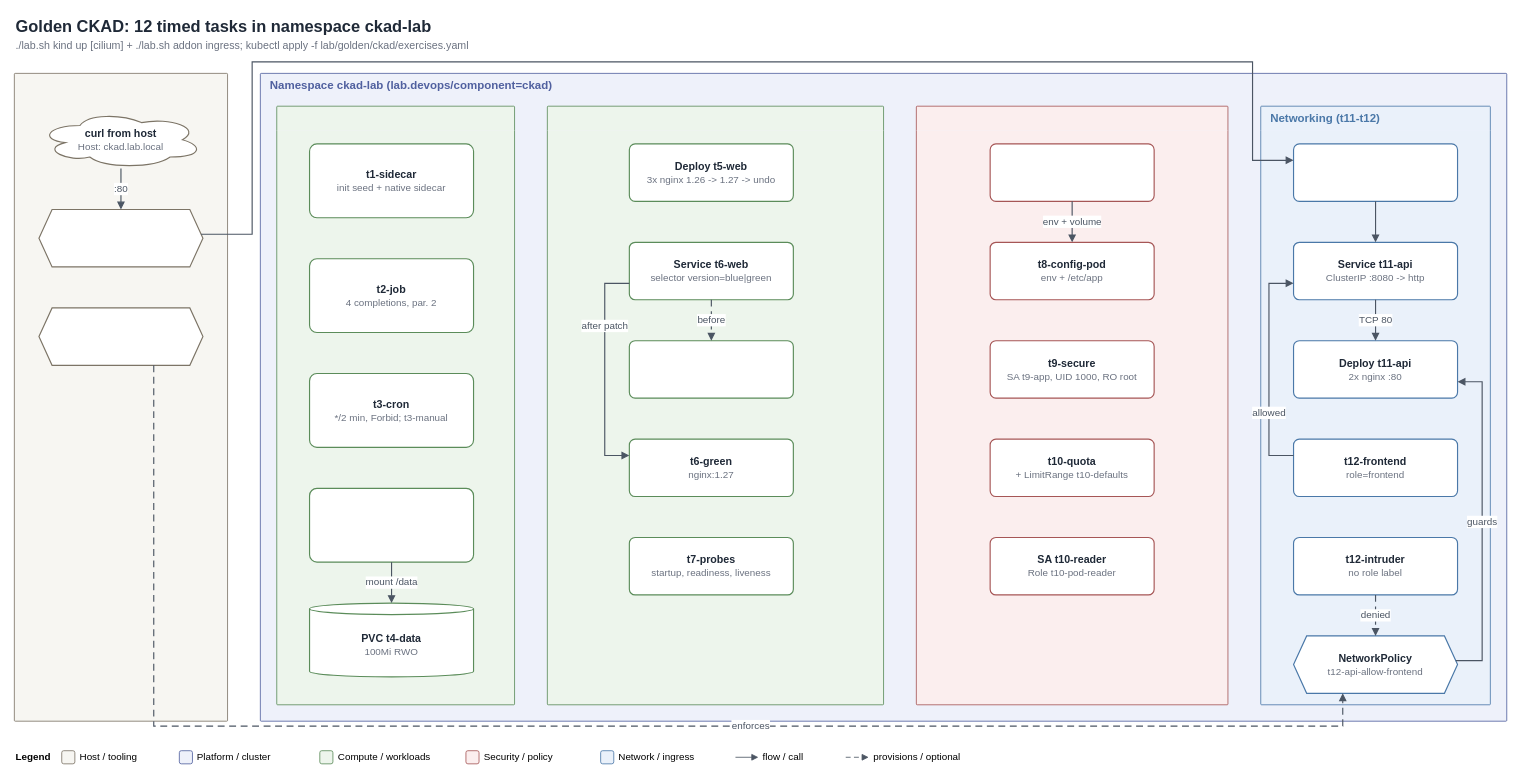
Some shapes in this 1521 by 779 pixel diagram are drawn without their labels. The box of each missing label's shape, as (x1, y1, x2, y2) in pixels:
Cilium CNI kind up cilium (t12): (38, 307, 203, 365)
Config, Security, RBAC (t8-t10): (916, 105, 1228, 705)
ConfigMap t8-config + Secret t8-secret: (989, 143, 1154, 201)
Deployment + Observability (t5-t7): (547, 105, 884, 705)
Design & Build (t1-t4): (276, 105, 515, 705)
Host / add-ons: (14, 73, 228, 721)
Ingress t11-ingress ckad.lab.local: (1293, 143, 1458, 201)
ingress-nginx addon ingress: (38, 209, 203, 267)
t4-writer appends /data/out.log: (309, 487, 474, 562)
t6-blue nginx:1.26: (628, 340, 794, 398)
